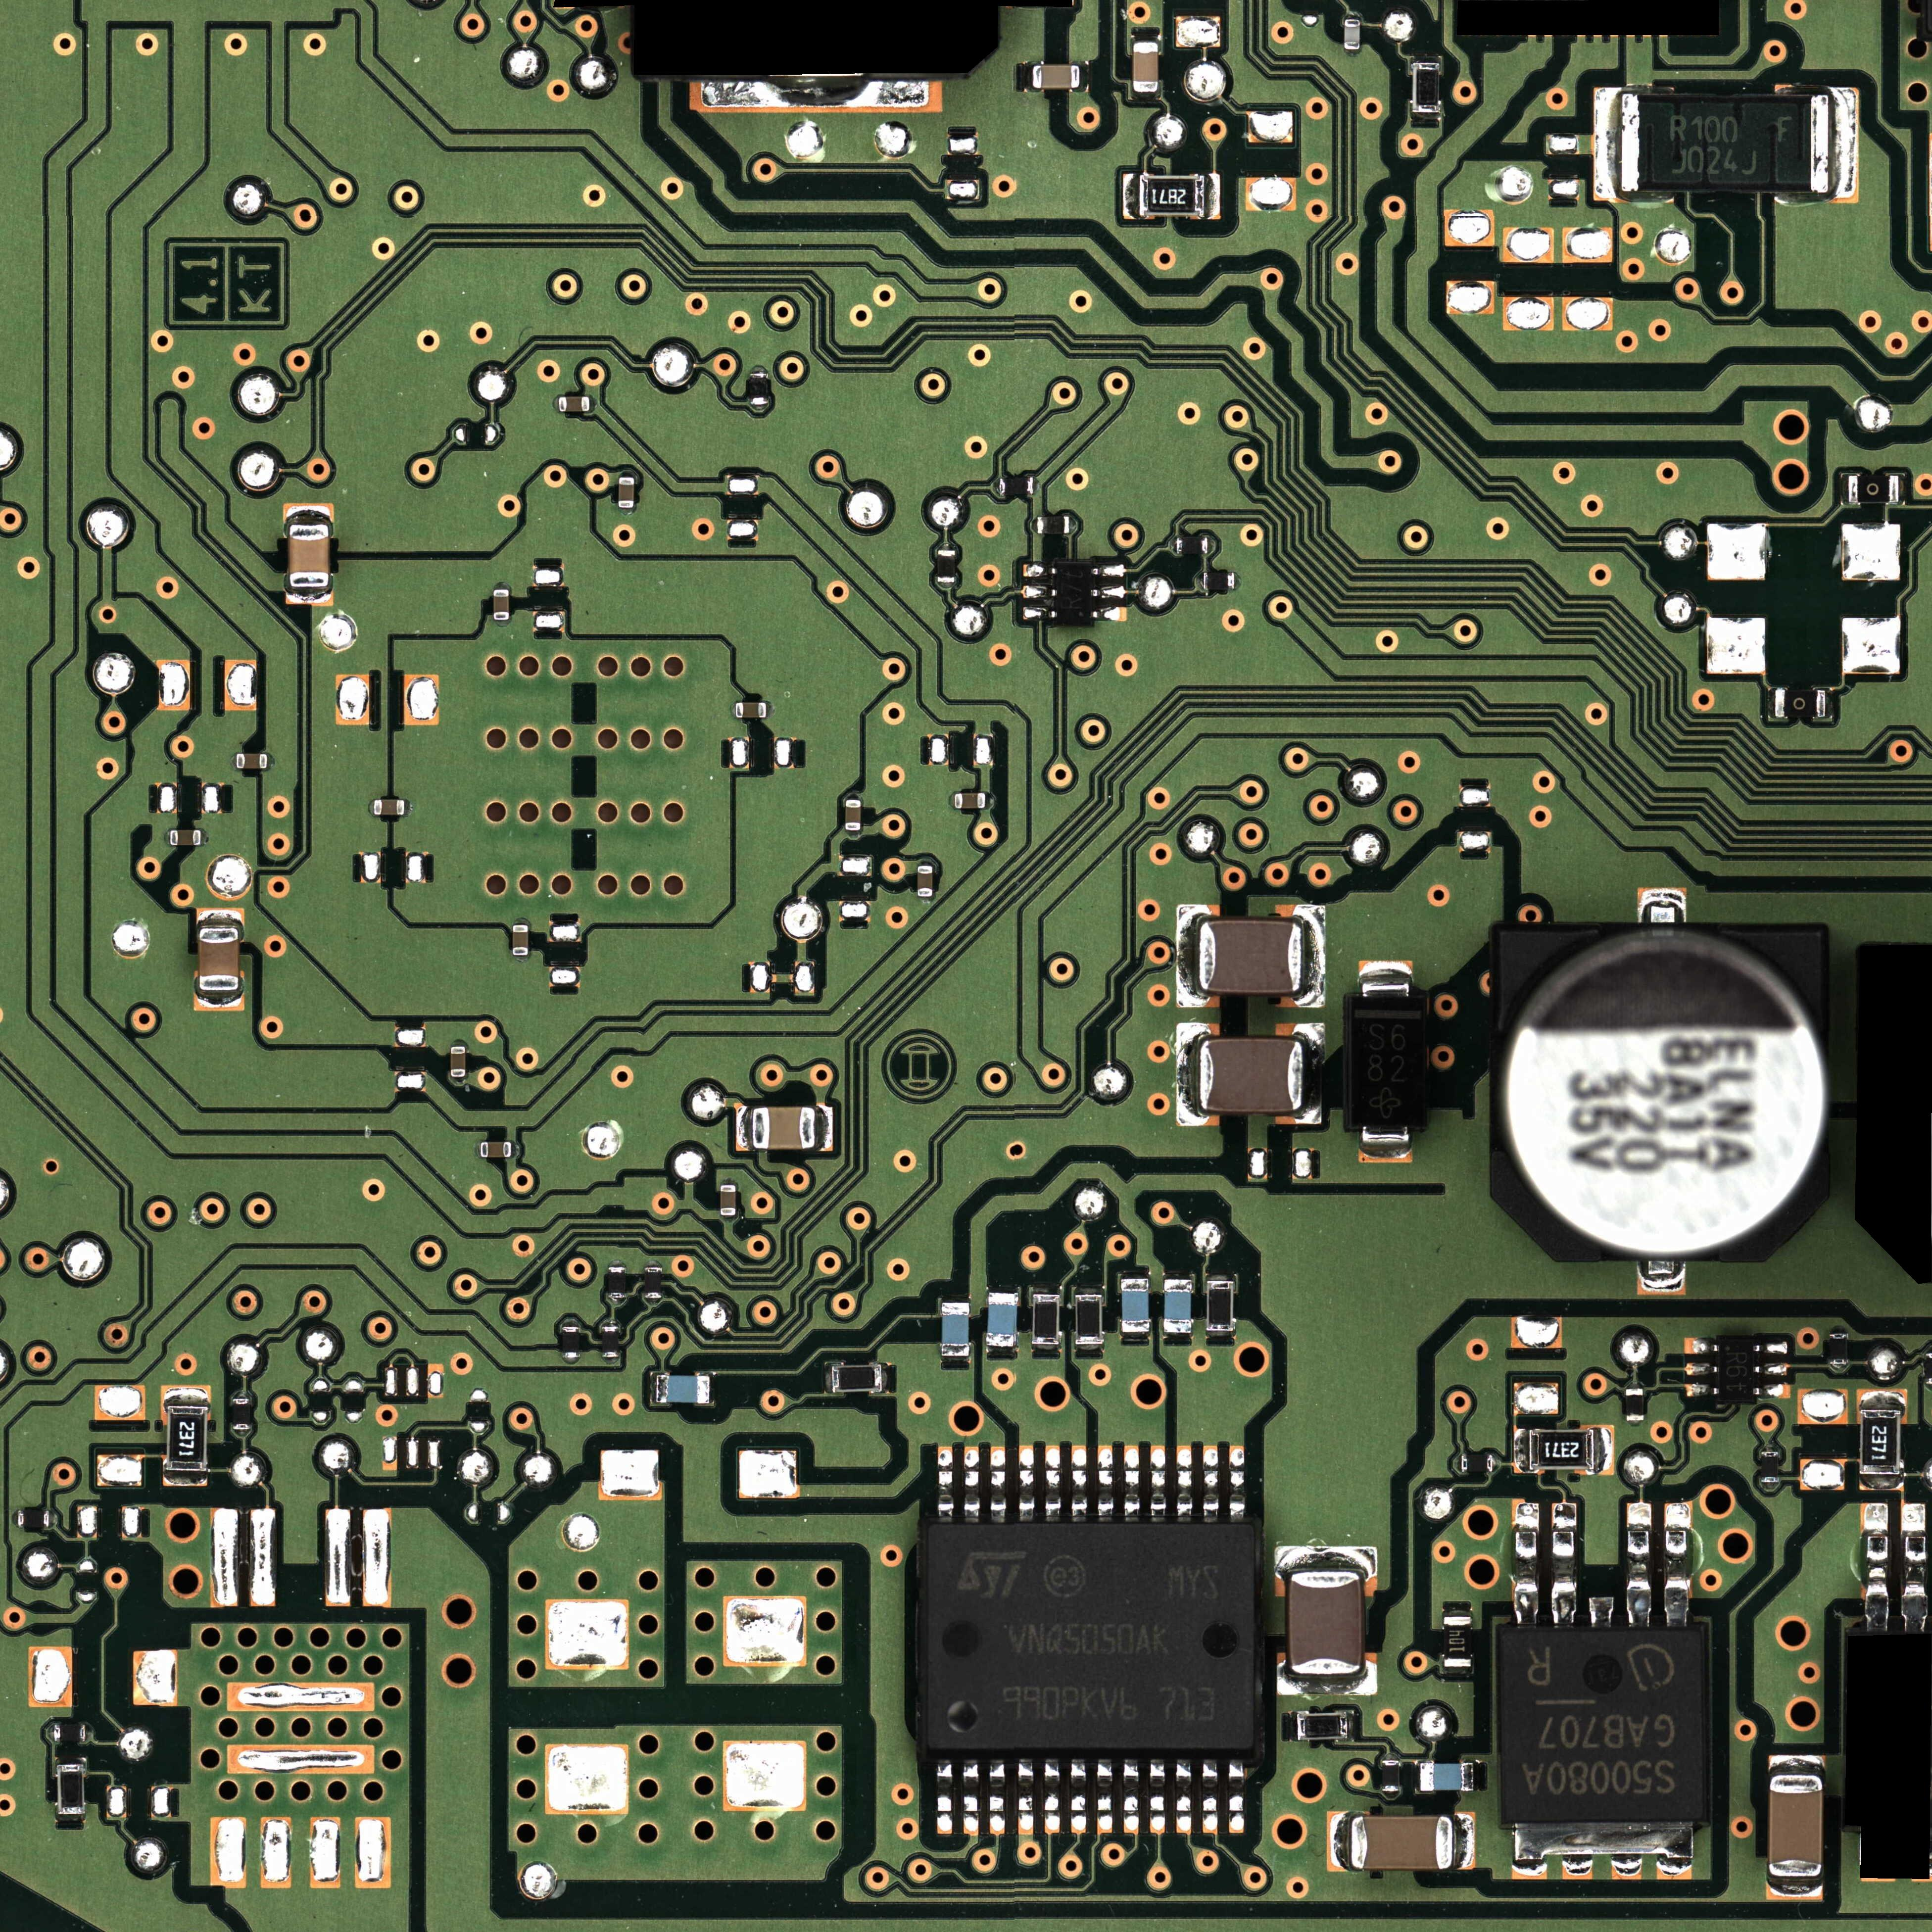Package: (1490, 924, 1829, 1261), (927, 1523, 1254, 1750), (1500, 1629, 1704, 1821), (1621, 94, 1829, 193), (1348, 996, 1428, 1127), (1288, 1571, 1364, 1675), (1198, 1039, 1304, 1113), (1198, 920, 1302, 993), (1350, 1815, 1453, 1870), (1769, 1776, 1822, 1877), (1859, 1410, 1902, 1476), (1139, 175, 1205, 216), (1529, 1430, 1594, 1470), (288, 524, 329, 587), (166, 1407, 207, 1470), (752, 1108, 816, 1148), (198, 929, 239, 991), (1056, 563, 1092, 623), (1720, 1339, 1753, 1399), (656, 1375, 709, 1403), (987, 1293, 1016, 1346), (941, 1302, 970, 1355), (1775, 690, 1826, 718), (1421, 1764, 1474, 1790), (1164, 1279, 1191, 1332), (1122, 1279, 1148, 1332), (1444, 1617, 1472, 1667), (832, 1366, 881, 1392), (1132, 42, 1159, 92), (1849, 476, 1898, 502), (1076, 1295, 1102, 1345), (1207, 1281, 1233, 1330), (1297, 1713, 1346, 1739), (58, 1764, 83, 1815), (1414, 64, 1438, 113), (1033, 1295, 1058, 1345), (1033, 65, 1079, 88), (936, 550, 955, 582), (1000, 478, 1033, 495), (1037, 517, 1070, 534), (750, 373, 768, 405), (644, 1267, 662, 1299), (1626, 1389, 1644, 1421), (1382, 1760, 1399, 1792), (1760, 1451, 1778, 1483), (232, 1399, 249, 1430), (563, 1327, 580, 1357), (602, 1327, 619, 1357), (609, 1267, 626, 1297), (1461, 1454, 1491, 1472), (1829, 1334, 1847, 1364), (373, 800, 405, 816), (53, 1725, 85, 1741), (18, 1511, 50, 1527), (170, 830, 200, 846), (494, 589, 510, 619), (736, 702, 766, 718), (513, 925, 529, 955), (955, 793, 985, 809), (559, 396, 589, 412), (237, 754, 267, 770), (846, 800, 862, 830), (720, 1185, 736, 1215), (1345, 19, 1361, 50), (1177, 538, 1207, 554), (1203, 573, 1233, 589), (918, 865, 932, 897), (619, 478, 633, 508), (481, 1143, 511, 1157), (451, 1047, 465, 1077)
Solder: (1513, 1822, 1693, 1879), (699, 80, 931, 113), (1861, 1504, 1890, 1633), (1900, 1502, 1927, 1633), (1829, 88, 1859, 202), (1513, 1502, 1539, 1628), (1663, 1502, 1690, 1628), (1626, 1502, 1652, 1626), (1552, 1502, 1576, 1628), (1594, 88, 1621, 202), (1276, 1546, 1376, 1571), (1302, 906, 1325, 1008), (1177, 1023, 1200, 1125), (1304, 1023, 1323, 1125), (1359, 961, 1414, 996), (1277, 1675, 1376, 1695), (1359, 1127, 1412, 1162), (1638, 888, 1686, 924), (1638, 1260, 1684, 1295), (1177, 904, 1198, 978), (1327, 1812, 1350, 1872), (962, 1759, 980, 1836), (1017, 1759, 1035, 1836), (1123, 1444, 1141, 1522), (1228, 1445, 1246, 1523), (936, 1759, 954, 1835), (1175, 1759, 1192, 1835), (1201, 1759, 1219, 1835), (1097, 1445, 1115, 1522), (1070, 1445, 1088, 1522), (1228, 1760, 1246, 1835), (989, 1447, 1007, 1522), (1767, 1877, 1822, 1900), (938, 1445, 954, 1523), (1150, 1445, 1166, 1523), (989, 1759, 1005, 1836), (1177, 1445, 1192, 1523), (1203, 1444, 1219, 1522), (964, 1445, 980, 1522), (1097, 1759, 1113, 1835), (1123, 1759, 1139, 1835), (1070, 1759, 1086, 1835), (1044, 1759, 1060, 1835), (1150, 1759, 1166, 1835), (1046, 1445, 1062, 1522), (1019, 1445, 1035, 1522), (1453, 1813, 1474, 1870), (1769, 1755, 1826, 1775), (161, 1385, 211, 1407), (1858, 1389, 1907, 1410), (283, 504, 333, 524), (195, 991, 244, 1010), (1594, 1426, 1614, 1476), (285, 587, 333, 605), (196, 909, 244, 927), (816, 1106, 833, 1152), (1589, 1596, 1614, 1628), (736, 1106, 752, 1152), (1205, 173, 1221, 219), (1123, 173, 1139, 219), (163, 1472, 209, 1486), (1514, 1428, 1529, 1474), (1859, 1476, 1904, 1490), (1684, 1338, 1718, 1353), (1753, 1384, 1790, 1398), (1092, 607, 1127, 621), (1686, 1384, 1720, 1398), (1092, 564, 1125, 577), (1023, 564, 1056, 577), (1023, 586, 1056, 598), (1023, 607, 1056, 619), (1092, 586, 1125, 598), (1753, 1341, 1787, 1353), (1684, 1362, 1718, 1375), (1753, 1362, 1787, 1375), (1079, 62, 1090, 92), (1840, 472, 1849, 506), (1129, 92, 1161, 101), (1120, 1332, 1152, 1341), (987, 1284, 1019, 1293), (1205, 1272, 1237, 1281), (1442, 1667, 1474, 1675), (881, 1364, 890, 1394), (1131, 34, 1161, 42), (1120, 1270, 1150, 1279), (1205, 1330, 1235, 1339), (1442, 1608, 1472, 1617), (941, 1355, 970, 1364), (55, 1757, 87, 1764), (939, 1295, 971, 1302), (709, 1373, 717, 1405), (1162, 1272, 1194, 1279), (985, 1346, 1017, 1353), (1030, 1286, 1062, 1293), (1414, 1760, 1421, 1792), (55, 1815, 85, 1822), (649, 1373, 656, 1403), (1410, 113, 1440, 120), (1074, 1345, 1104, 1352), (1074, 1286, 1104, 1293), (1031, 1345, 1062, 1352), (1162, 1332, 1192, 1339), (1348, 1711, 1355, 1741), (1290, 1711, 1297, 1741), (1898, 474, 1905, 504), (1826, 688, 1833, 718), (1767, 688, 1775, 718), (1024, 62, 1031, 92), (824, 1364, 832, 1392), (1412, 55, 1440, 62), (1474, 1762, 1481, 1790), (1829, 1325, 1849, 1334), (750, 364, 768, 373), (589, 395, 598, 412), (617, 469, 635, 478), (844, 830, 862, 839), (766, 701, 775, 718), (1453, 1454, 1461, 1472), (1491, 1454, 1500, 1472), (403, 800, 412, 816), (494, 619, 510, 628), (200, 830, 209, 846), (228, 754, 237, 770), (451, 1039, 467, 1047), (472, 1141, 481, 1157), (46, 1725, 55, 1741), (947, 793, 955, 809), (720, 1177, 736, 1185), (232, 1430, 251, 1437), (1760, 1483, 1780, 1490), (11, 1509, 18, 1527), (750, 405, 768, 412), (938, 543, 955, 550), (916, 897, 934, 904), (617, 508, 635, 515), (938, 582, 955, 589), (644, 1299, 662, 1306), (563, 1320, 580, 1327), (644, 1260, 662, 1267), (609, 1299, 626, 1306), (602, 1357, 619, 1364), (1033, 476, 1040, 494), (993, 478, 1000, 495), (1343, 50, 1361, 57), (1343, 12, 1361, 19), (1069, 517, 1076, 534), (1208, 536, 1215, 554), (1382, 1753, 1399, 1760), (1382, 1792, 1399, 1799), (1626, 1382, 1644, 1389), (1829, 1364, 1847, 1371), (1626, 1421, 1644, 1428), (163, 830, 170, 846), (267, 754, 274, 770), (494, 582, 510, 589), (366, 800, 373, 816), (85, 1725, 92, 1741), (50, 1511, 57, 1527), (552, 396, 559, 412), (513, 918, 529, 925), (513, 955, 529, 962), (729, 702, 736, 718), (846, 793, 862, 800), (511, 1141, 518, 1157), (609, 1260, 625, 1267), (720, 1215, 736, 1223), (1235, 573, 1242, 589), (1196, 573, 1203, 589), (985, 793, 993, 809), (1169, 538, 1177, 554), (1030, 517, 1037, 533), (950, 497, 962, 506), (451, 1077, 465, 1085), (232, 1392, 249, 1398), (916, 860, 934, 865), (602, 1320, 619, 1325), (563, 1359, 580, 1364), (1760, 1445, 1778, 1451)
